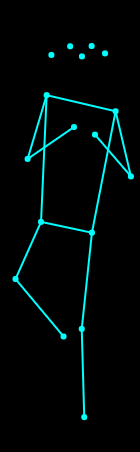tree: (1, 32, 140, 422)
